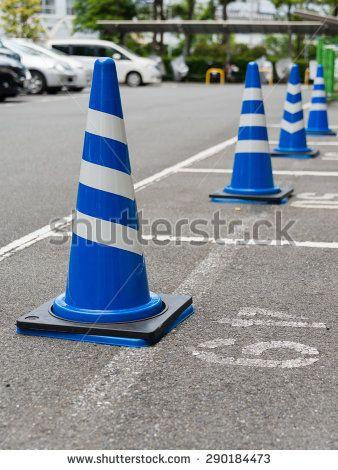cone: (22, 56, 196, 351), (208, 58, 287, 211), (267, 59, 322, 161), (300, 58, 336, 139)
